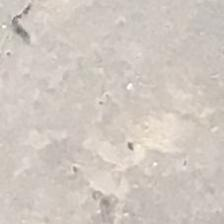Non_Crack: (34, 66, 224, 170)
